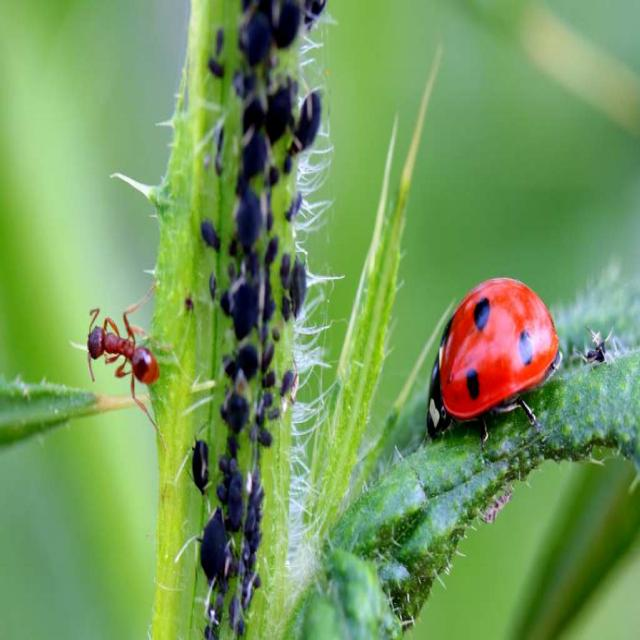Aphid-Grouped-: (221, 1, 330, 475), (194, 446, 270, 632)
Aphid-Grown-: (187, 431, 214, 501)
